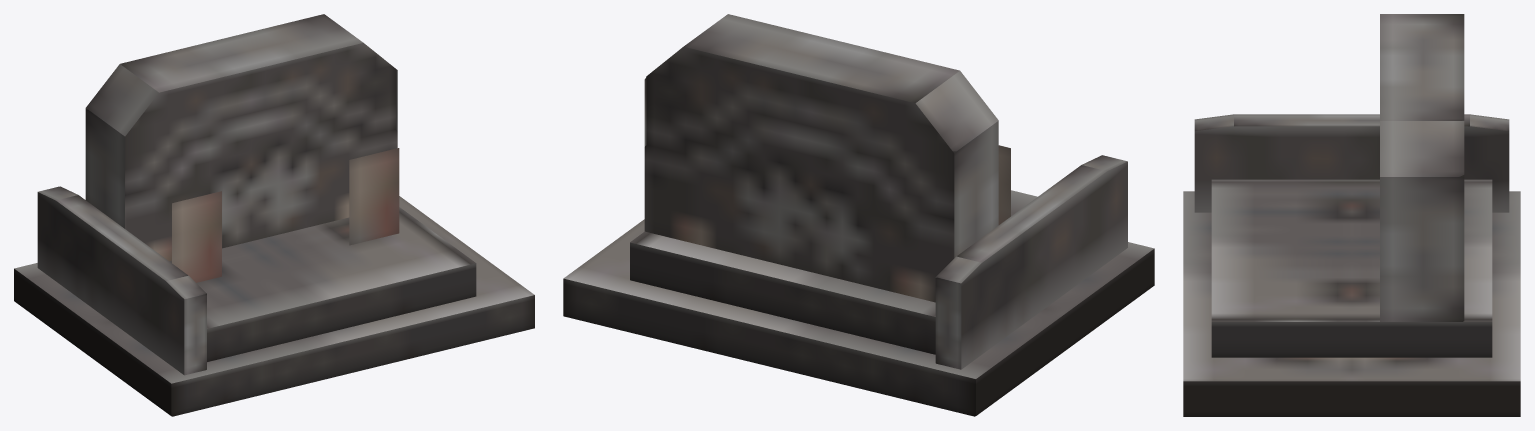
The model's file is Poly_SF_Outside_B_Tombstone_02.obj.
3 renders of one model, left to right at view 1: azimuth 30°, elevation 25°; view 2: azimuth 150°, elevation 25°; view 3: azimuth 270°, elevation 25°, orthographic. The views are drawn at different scales.
Parts seen in each view (by area): view 1: Cube.001, Cube.004; view 2: Cube.001, Cube.004; view 3: Cube.004, Cube.001.
Boxes of the visible parts, box(x1,y1,x2,y2) form: Cube.001: box(37, 14, 399, 375); Cube.004: box(14, 196, 534, 416); Cube.001: box(644, 14, 1127, 369); Cube.004: box(563, 190, 1154, 416); Cube.004: box(1183, 179, 1520, 416); Cube.001: box(1194, 14, 1509, 321).
Bounding box in the file's own units: 0.8 × 0.5 × 0.6.
1 material, 1 textured.
